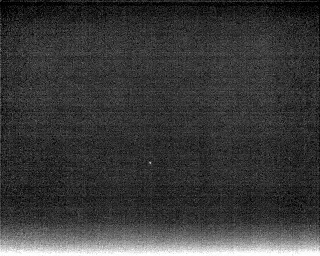BIRD: (147, 158, 154, 168)
